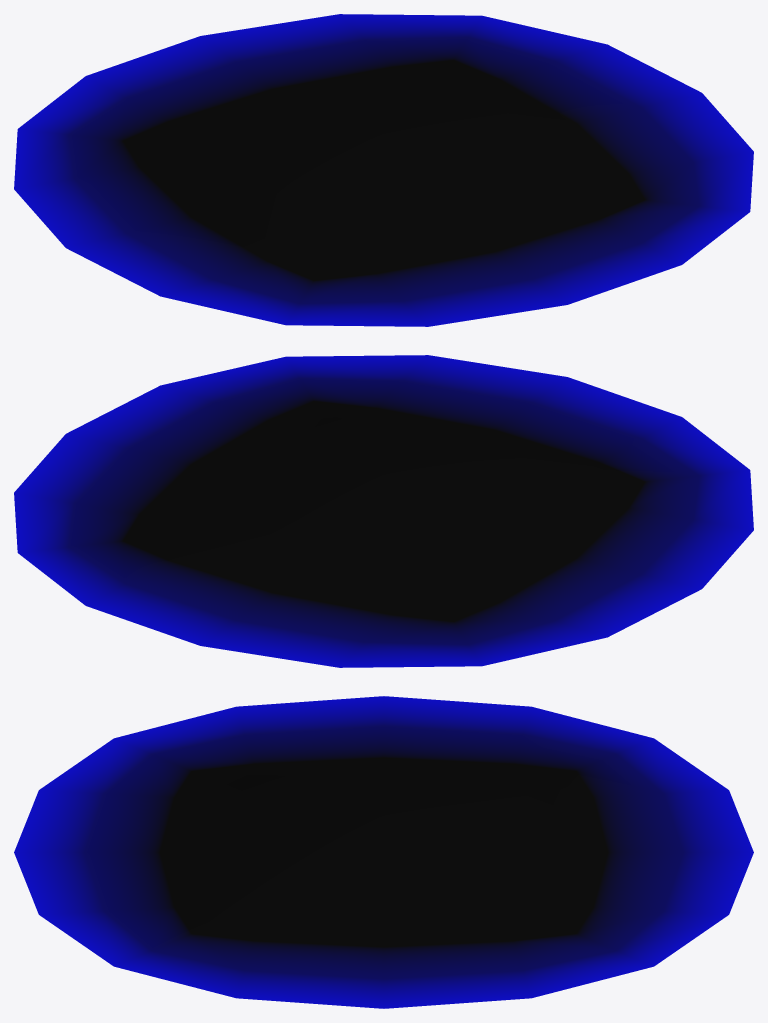
The model's file is Cave_FloorRockPile03.fbx.
3 views of the same model, one above another, from view 1: azimuth 30°, elevation 25°; view 2: azimuth 150°, elevation 25°; view 3: azimuth 270°, elevation 25° (orthographic).
Visible parts, largest first — view 1: Cave_FloorRockPile03; view 2: Cave_FloorRockPile03; view 3: Cave_FloorRockPile03.
Boxes of the visible parts, <box> form: Cave_FloorRockPile03: <box>14,14,753,326</box>; Cave_FloorRockPile03: <box>14,355,753,667</box>; Cave_FloorRockPile03: <box>14,696,753,1008</box>.
Bounding box in the file's own units: 2.99 × 0.1591 × 2.99.
